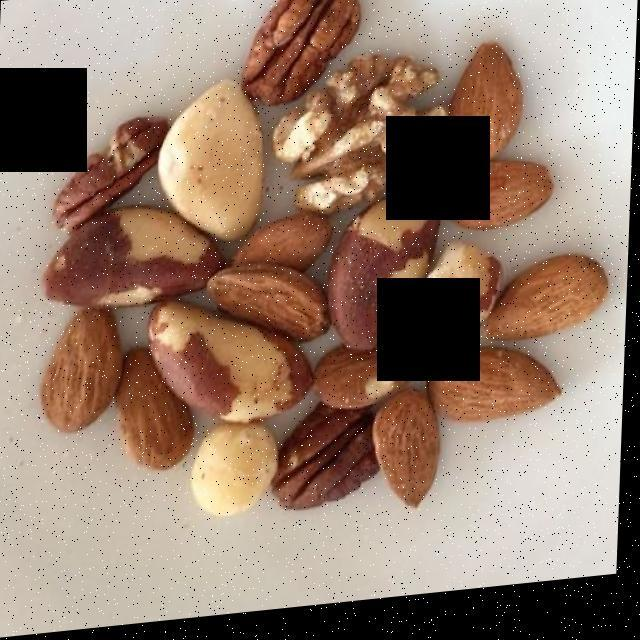mixed-nuts: (50, 6, 603, 520)
